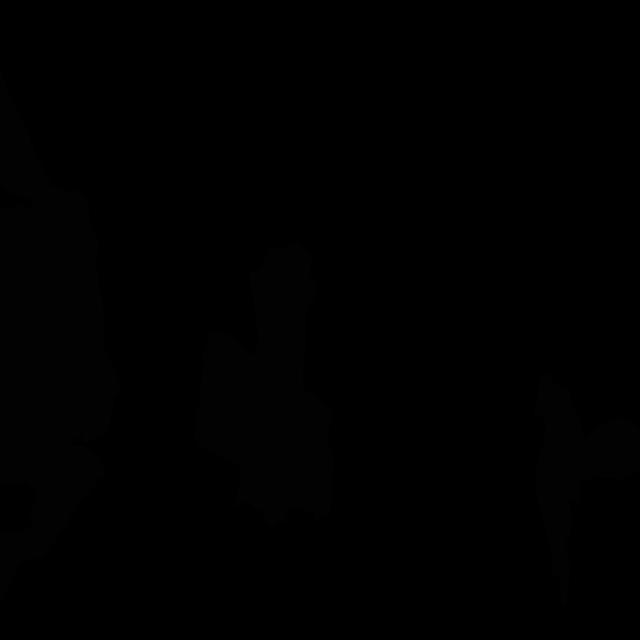cardboard: (0, 69, 121, 606), (194, 241, 334, 527), (534, 373, 586, 607), (584, 416, 640, 481), (536, 446, 551, 537)
